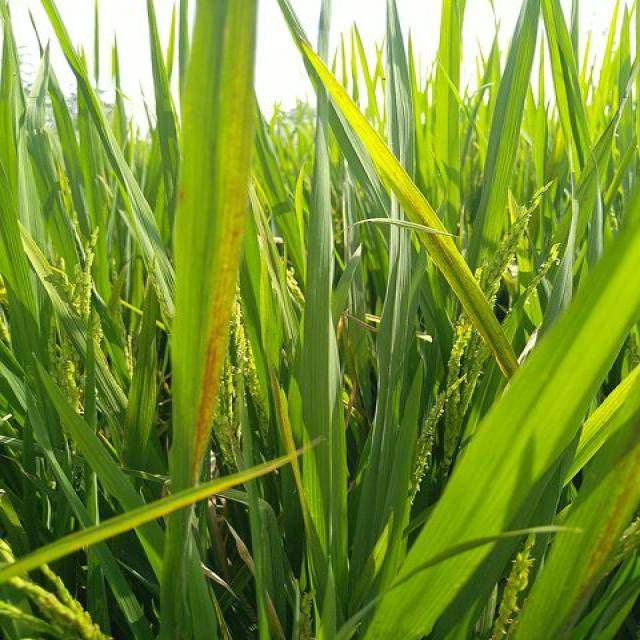Leaf Streak: (191, 0, 253, 462), (305, 46, 441, 228), (429, 233, 519, 377), (572, 464, 639, 626)
